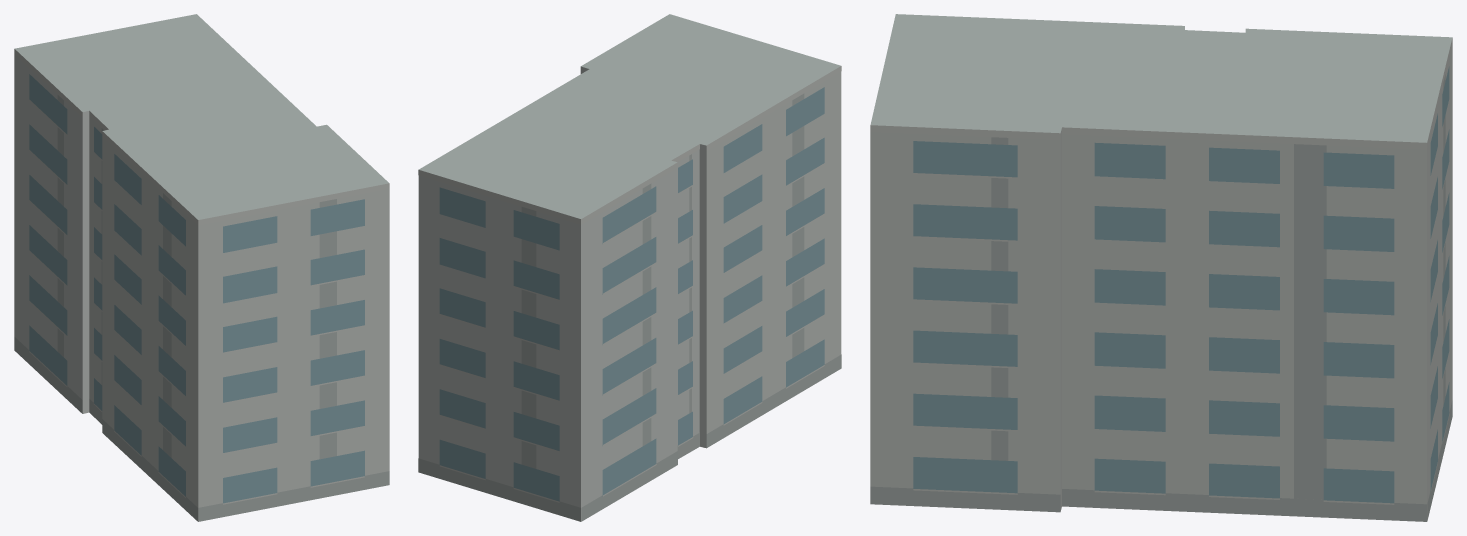
The model's file is survey-upis-32574085.glb.
3 views of the same model, side by side, from view 1: azimuth 30°, elevation 25°; view 2: azimuth 150°, elevation 25°; view 3: azimuth 270°, elevation 25° (orthographic). The views are drawn at different scales.
Parts seen in each view (by area): view 1: survey-upis-32574085.tmp; view 2: survey-upis-32574085.tmp; view 3: survey-upis-32574085.tmp.
Part boxes in pixels (x1,y1,x2,y2): survey-upis-32574085.tmp: (14, 14, 389, 521); survey-upis-32574085.tmp: (418, 14, 841, 521); survey-upis-32574085.tmp: (870, 14, 1452, 521).
Size of the model in its own units: 9.77 by 13.4 by 18.66.
